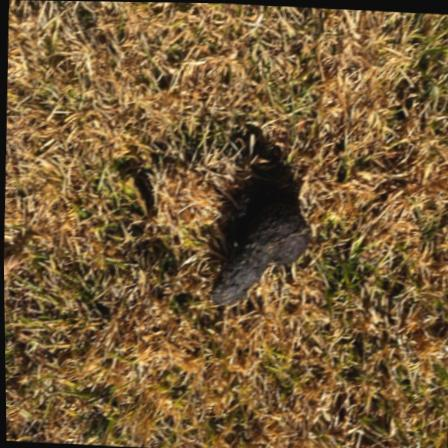dog-poop: (206, 209, 302, 309)
